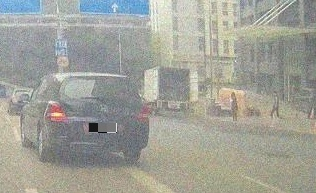L_light: (46, 103, 68, 122)
R_light: (137, 106, 149, 122)
T_light: (91, 77, 109, 80)
day-left: (44, 73, 150, 161)
plate_1: (89, 123, 117, 133)
